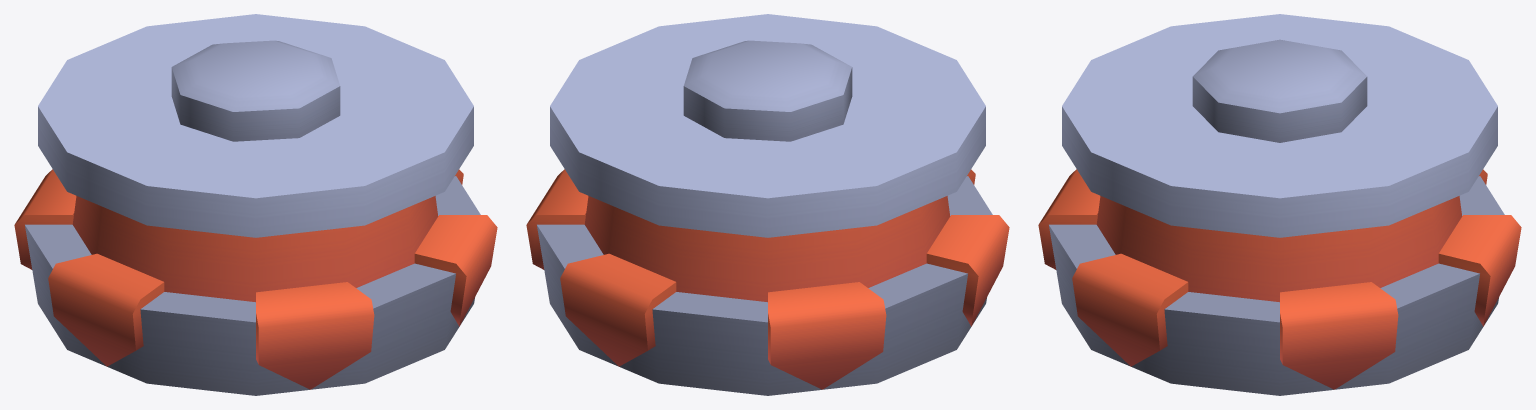
File: tower-round-middle-a.fbx
3 views of the same model, side by side, from view 1: azimuth 30°, elevation 25°; view 2: azimuth 150°, elevation 25°; view 3: azimuth 270°, elevation 25° (orthographic).
Visible parts, largest first — view 1: tower-round-middle-a; view 2: tower-round-middle-a; view 3: tower-round-middle-a.
Part boxes in pixels (x1,y1,x2,y2): tower-round-middle-a: (14,14,497,395); tower-round-middle-a: (526,14,1009,395); tower-round-middle-a: (1038,14,1521,395).
Bounding box in the file's own units: 111 × 60 × 111.
